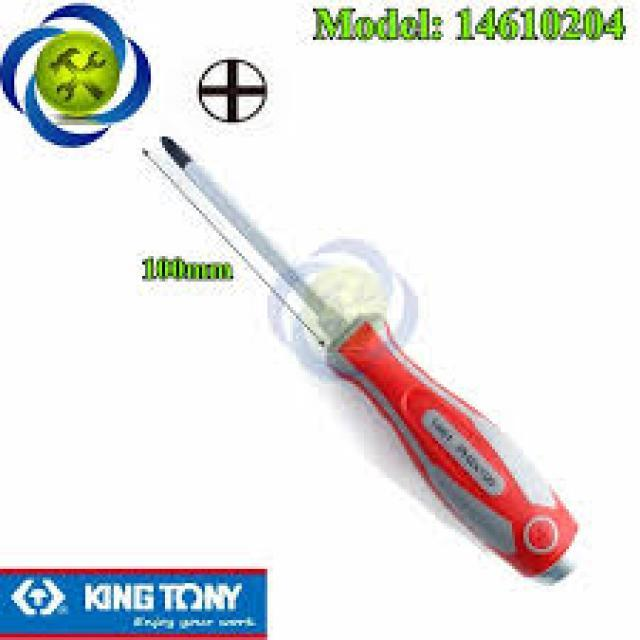screwdriver: (154, 131, 586, 586)
